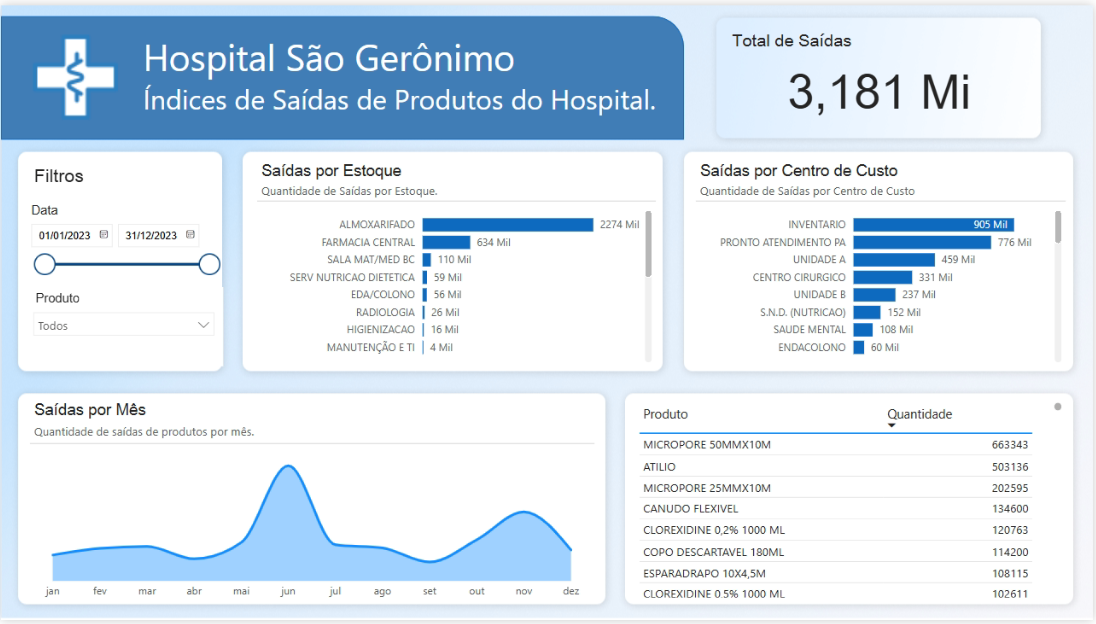

What the dashboard file says about the page in this screenshot:
{"tool":"powerbi","page":{"name":"Página 1","canvas":[1279,720],"ordinal":0},"visuals":[{"type":"areaChart","title":"Saídas por Mês","fields":{"Category":["historico saidas.Primeiros caracteres"],"Y":["Sum(historico saidas.quantidade)"]},"box":[33.8,460,661.2,238.8],"z":0},{"type":"clusteredBarChart","title":"Saídas por Estoque","fields":{"Category":["historico saidas.estoque"],"Y":["Sum(historico saidas.quantidade)"]},"box":[300,180,467.5,242.5],"z":1000},{"type":"clusteredBarChart","title":"Saídas por Centro de Custo","fields":{"Category":["historico saidas.centro_custo"],"Y":["Sum(historico saidas.quantidade)"]},"box":[813.8,180,433.8,242.5],"z":2000},{"type":"kpi","title":"Total de Saídas","fields":{"Indicator":["Sum(historico saidas.quantidade)"],"TrendLine":["historico saidas.data_saida.Variation.Hierarquia de datas.Ano"]},"box":[851.2,26.2,355,117.5],"z":3000},{"type":"tableEx","fields":{"Values":["historico saidas.nome_produto","Sum(historico saidas.quantidade)"]},"box":[741.2,460,506.2,238.8],"z":4000},{"type":"slicer","fields":{"Values":["historico saidas.data_saida"]},"box":[27.5,231.2,232.5,145],"z":4001},{"type":"slicer","fields":{"Values":["historico saidas.nome_produto"]},"box":[27.5,330,232.5,92.5],"z":4002},{"type":"textbox","box":[33.8,180,211.2,38.8],"z":4003},{"type":"shape","box":[0,12.5,800,145],"z":4005},{"type":"textbox","box":[161.2,26.2,622.5,117.5],"z":4006},{"type":"image","box":[31.2,25,112.5,118.8],"z":4007}]}

Visuals, with their boxes in screenshot pixels (x1, y1, x2, y2), scaled from the page's 1279x720 canvas onto the 1096x624 screenshot:
"Saídas por Mês" areaChart: x1=29 y1=399 x2=596 y2=606
"Saídas por Estoque" clusteredBarChart: x1=257 y1=156 x2=658 y2=366
"Saídas por Centro de Custo" clusteredBarChart: x1=697 y1=156 x2=1069 y2=366
"Total de Saídas" kpi: x1=729 y1=23 x2=1034 y2=125
tableEx - historico saidas.nome_produto x Sum(historico saidas.quantidade): x1=635 y1=399 x2=1069 y2=606
slicer - historico saidas.data_saida: x1=24 y1=200 x2=223 y2=326
slicer - historico saidas.nome_produto: x1=24 y1=286 x2=223 y2=366
textbox: x1=29 y1=156 x2=210 y2=190
shape: x1=0 y1=11 x2=686 y2=136
textbox: x1=138 y1=23 x2=672 y2=125
image: x1=27 y1=22 x2=123 y2=125
